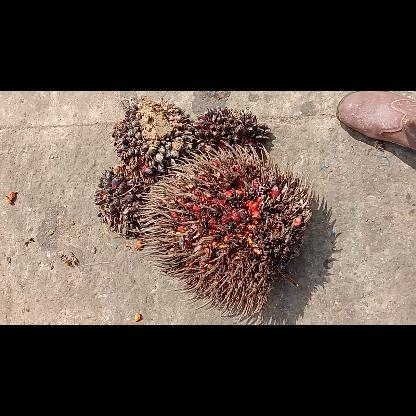TBS abnormal: (109, 94, 193, 176), (90, 163, 150, 239), (190, 104, 274, 158)
Terlalu masak: (136, 142, 316, 322)
